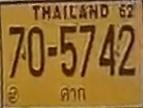0: (27, 26, 44, 76)
2: (118, 24, 134, 77)
4: (98, 23, 115, 75)
5: (59, 25, 76, 76)
7: (79, 24, 95, 78), (9, 26, 24, 79)
TAK: (58, 84, 88, 102)
